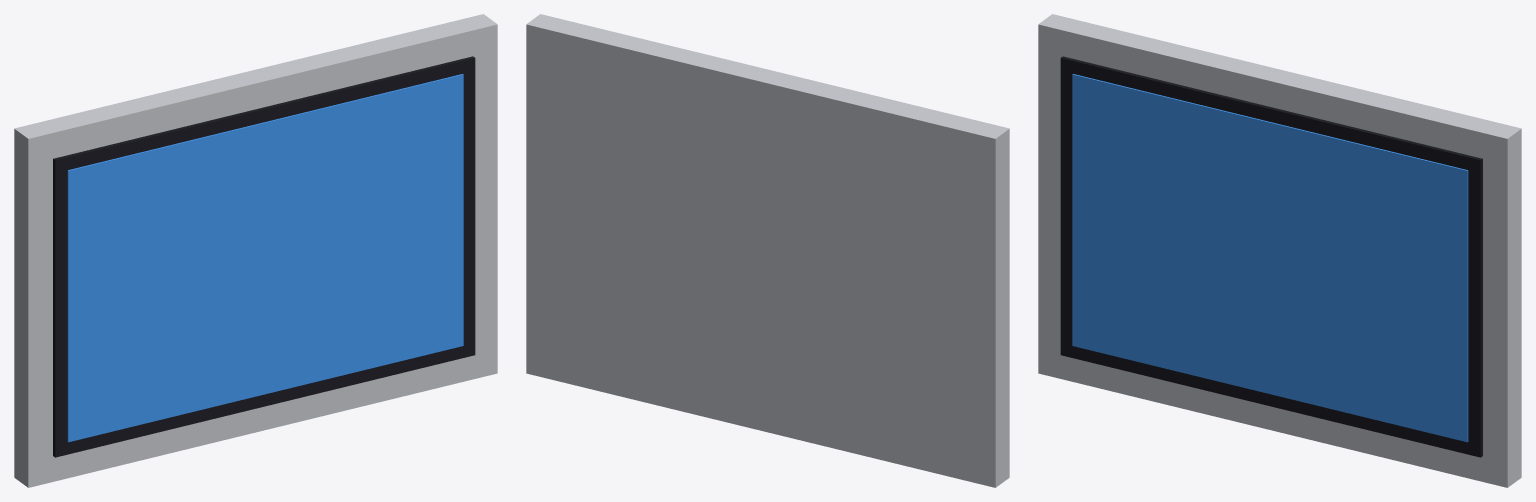
The model's file is tablet.obj.
3 renders of one model, left to right at view 1: azimuth 30°, elevation 25°; view 2: azimuth 150°, elevation 25°; view 3: azimuth 330°, elevation 25°, orthographic.
Visible parts, largest first — view 1: ScreenGlow, Body, Screen; view 2: Body; view 3: ScreenGlow, Body, Screen.
Part boxes in pixels (x1=…): ScreenGlow: x1=67, y1=74, x2=463, y2=442; Body: x1=14, y1=14, x2=497, y2=487; Screen: x1=53, y1=56, x2=475, y2=457; Body: x1=526, y1=14, x2=1009, y2=487; ScreenGlow: x1=1072, y1=74, x2=1468, y2=442; Body: x1=1038, y1=14, x2=1521, y2=487; Screen: x1=1060, y1=56, x2=1482, y2=457.
Bounding box in the file's own units: 1.9 × 1.35 × 0.121.
